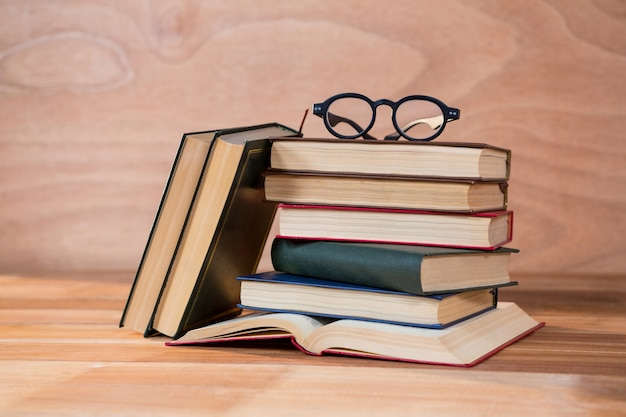book: (160, 121, 305, 342), (159, 299, 551, 365), (115, 127, 235, 338), (272, 232, 527, 301)
